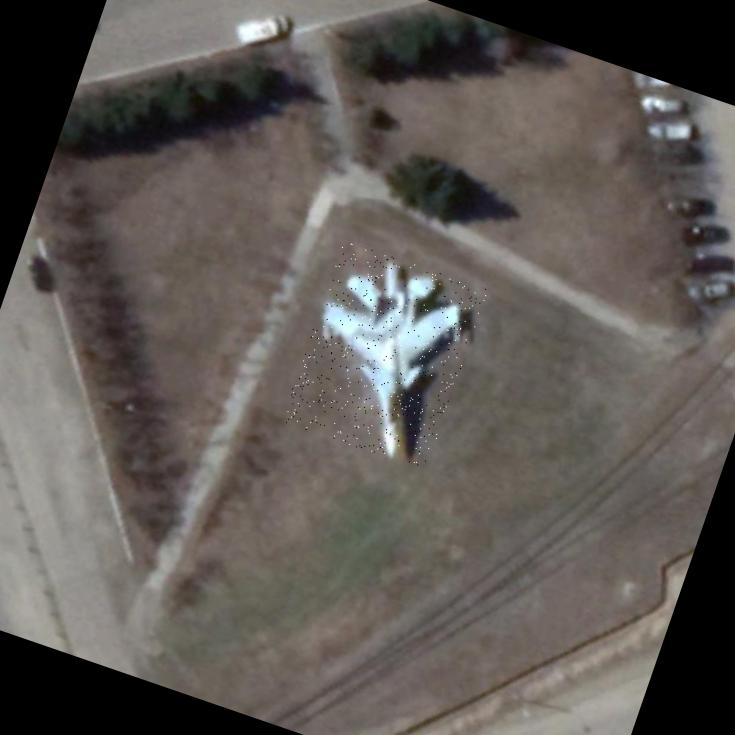A19: (280, 239, 487, 470)
